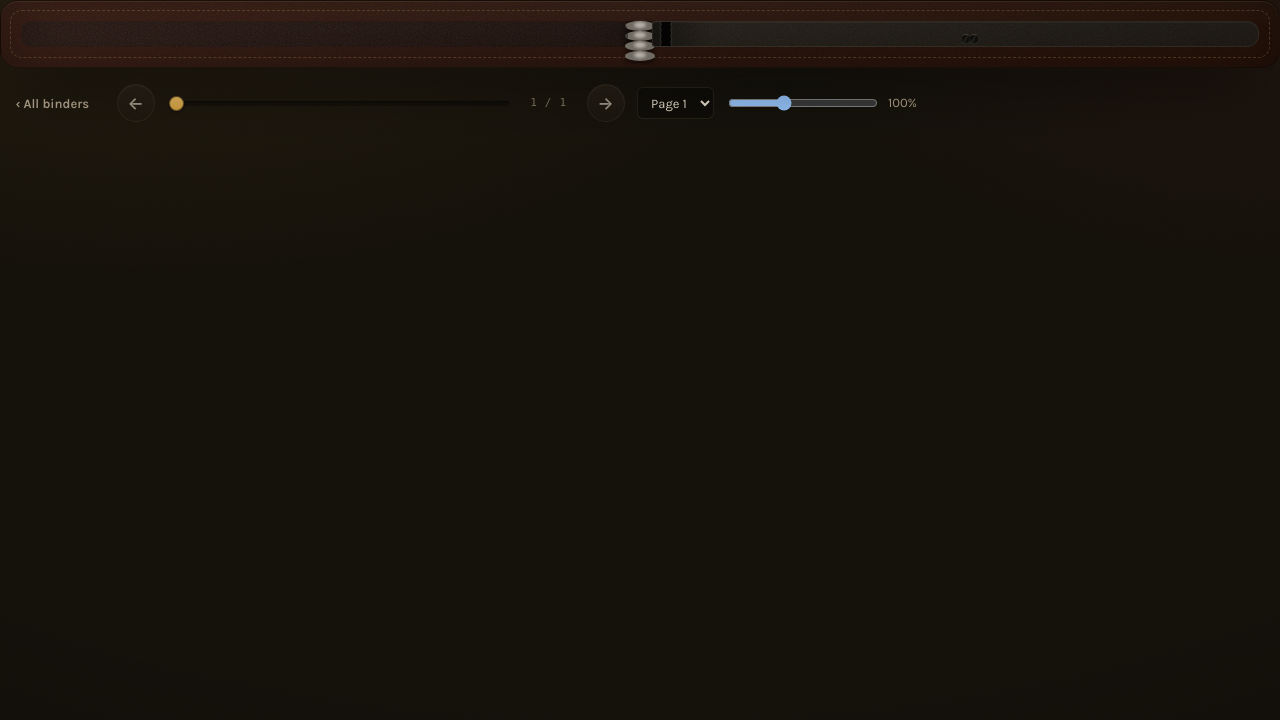
Scenario: BinderView manual arrange › "Edit image" opens the editor directly without leaving manual arrange mode
The width and height of the screenshot is (1280, 720).
Step 1. Click the button named "select this empty slot" → (966, 39), box [960,34,970,44]
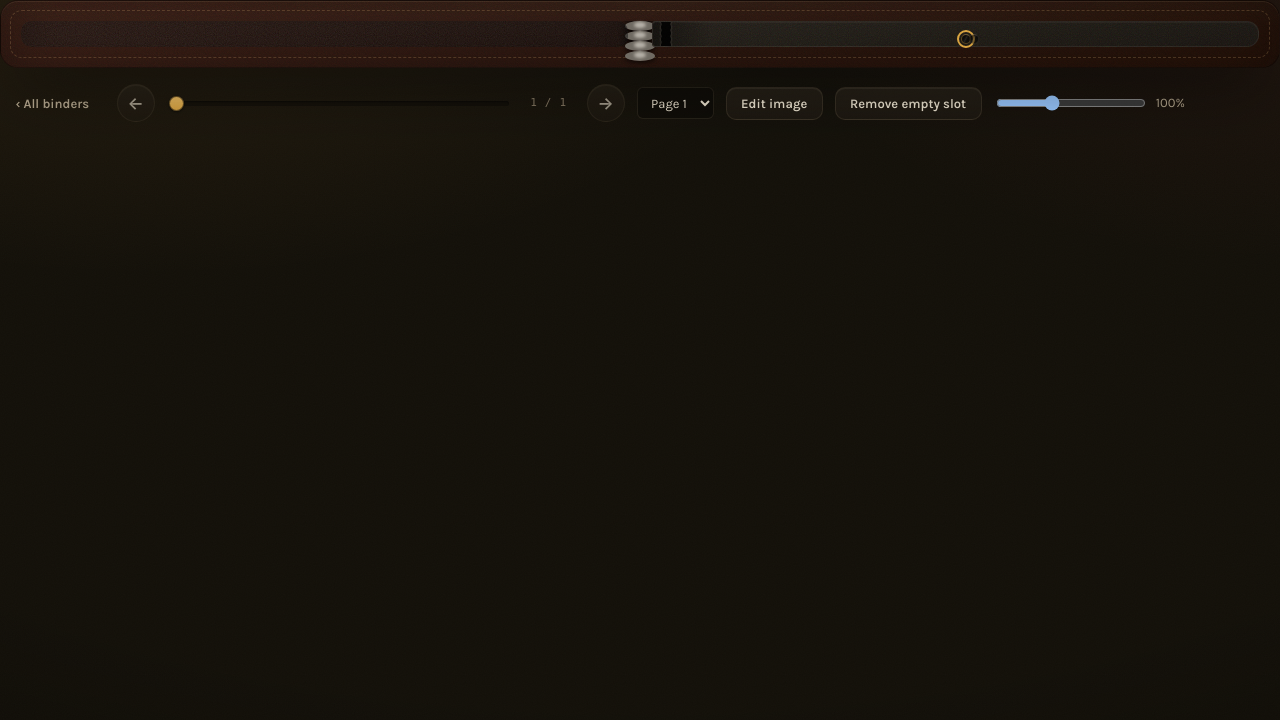
Step 2. Click the button "Edit image" → (774, 103), box [726,86,823,120]
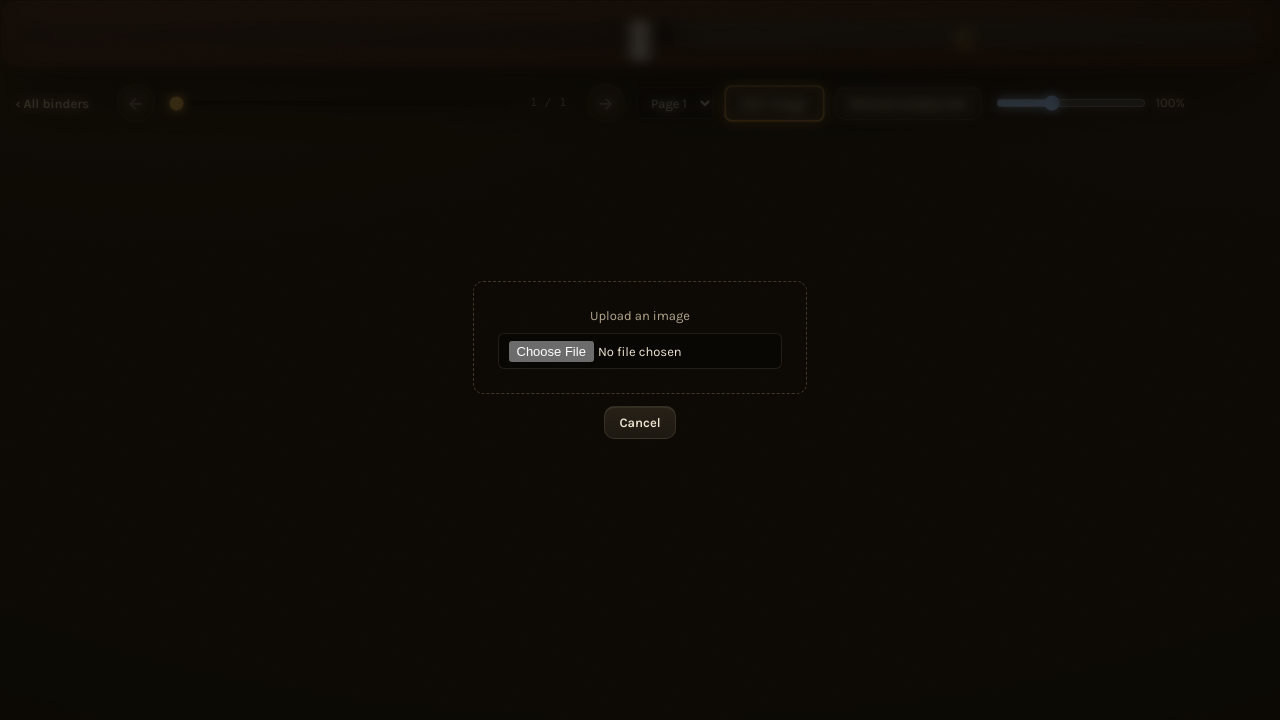
Check: the dialog named "edit custom binder slot image" is shown
